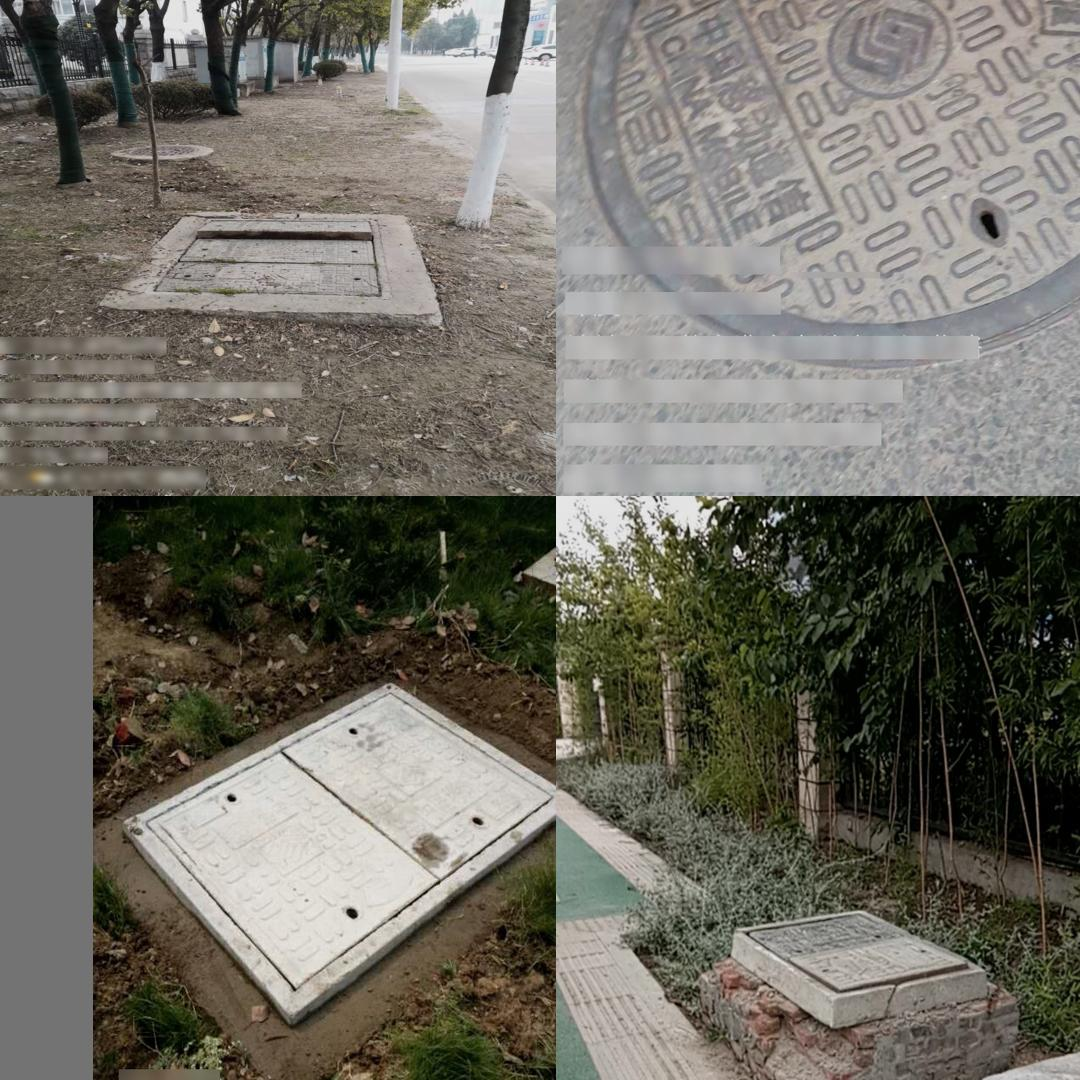good: (597, 0, 1080, 367), (120, 683, 556, 1027), (736, 908, 983, 998), (109, 145, 203, 161)
uncovered: (143, 215, 391, 301)
